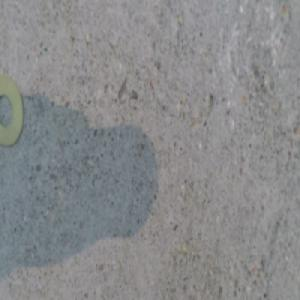Washer: (0, 76, 25, 147)
